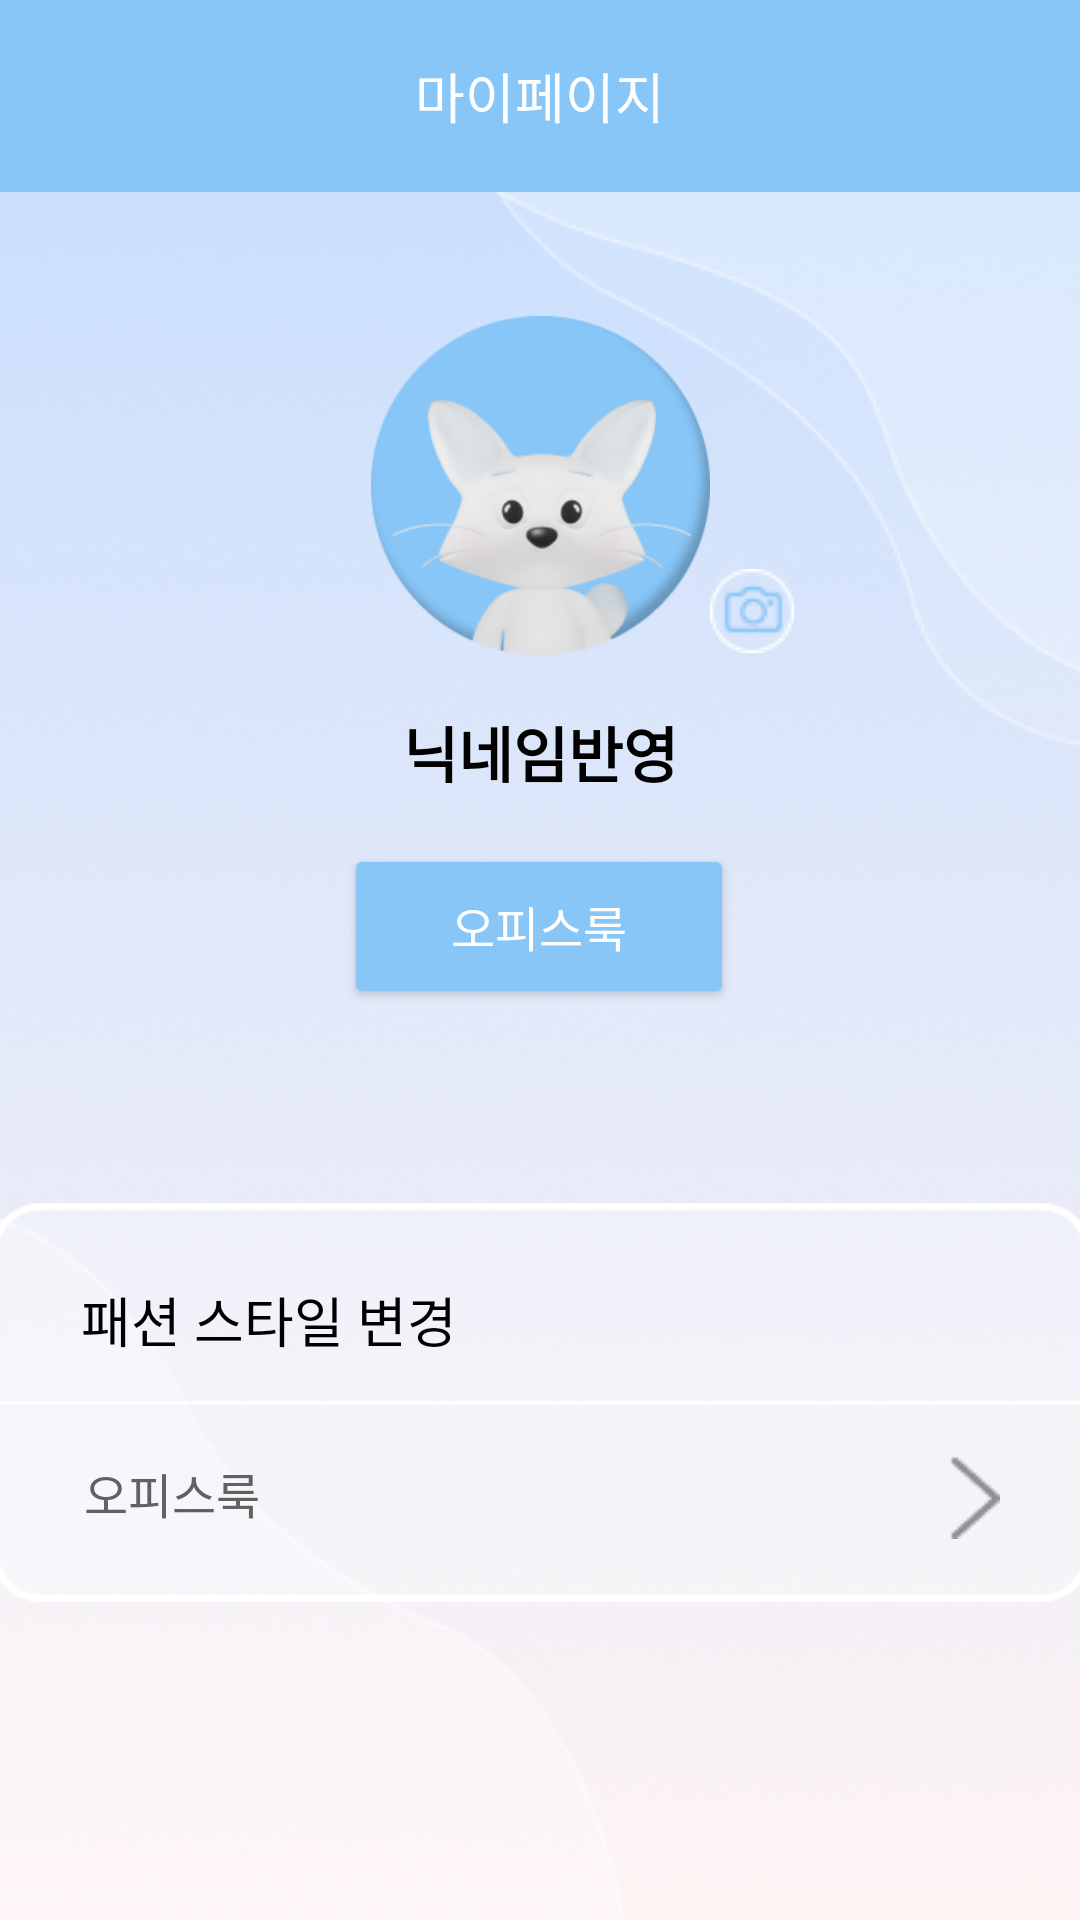

Screen size 1080x1920. Icon name, then its box in pixels as {"left": x1, "top": y1, "right": x2, "bottom": y2}:
camera: {"left": 710, "top": 569, "right": 794, "bottom": 653}
profile: {"left": 371, "top": 316, "right": 710, "bottom": 655}
